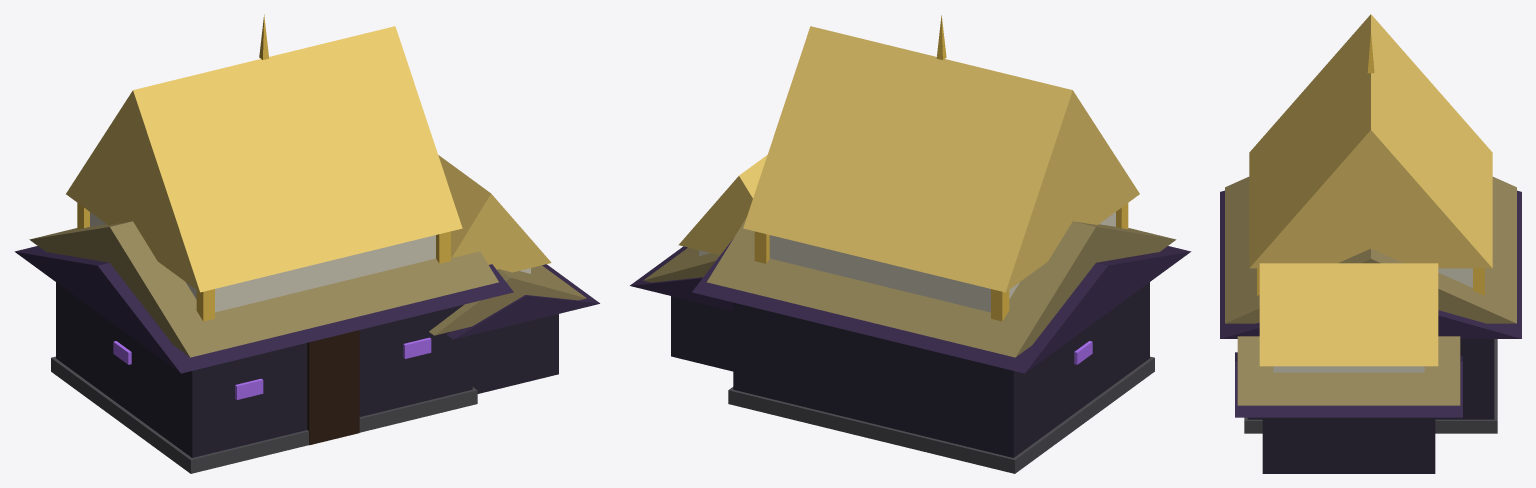
The model's file is Env_Houses.obj.
3 views of the same model, side by side, from view 1: azimuth 30°, elevation 25°; view 2: azimuth 150°, elevation 25°; view 3: azimuth 270°, elevation 25° (orthographic). The views are drawn at different scales.
Visible parts, largest first — view 1: Env_House_Light_B, Env_House_Dark_B, Env_House_Border_B; view 2: Env_House_Light_B, Env_House_Dark_B, Env_House_Border_B; view 3: Env_House_Light_B, Env_House_Dark_B, Env_House_Border_B.
Boxes of the visible parts, <box> form: Env_House_Light_B: <box>66,14,551,321</box>; Env_House_Dark_B: <box>14,246,599,473</box>; Env_House_Border_B: <box>29,221,586,357</box>; Env_House_Light_B: <box>678,15,1139,321</box>; Env_House_Dark_B: <box>630,238,1191,473</box>; Env_House_Border_B: <box>643,217,1176,357</box>; Env_House_Light_B: <box>1249,14,1492,372</box>; Env_House_Dark_B: <box>1220,190,1521,473</box>; Env_House_Border_B: <box>1225,177,1516,405</box>.
Bounding box in the file's own units: 8.12 × 6.78 × 5.48.
